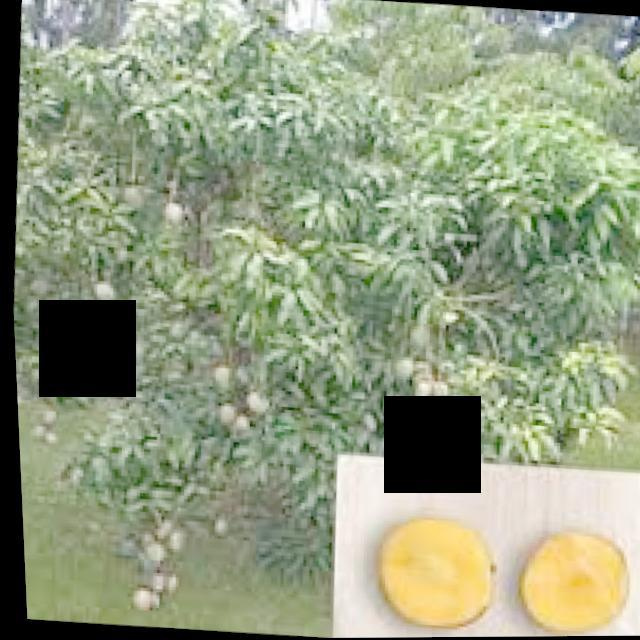Tree: (1, 1, 621, 639)
